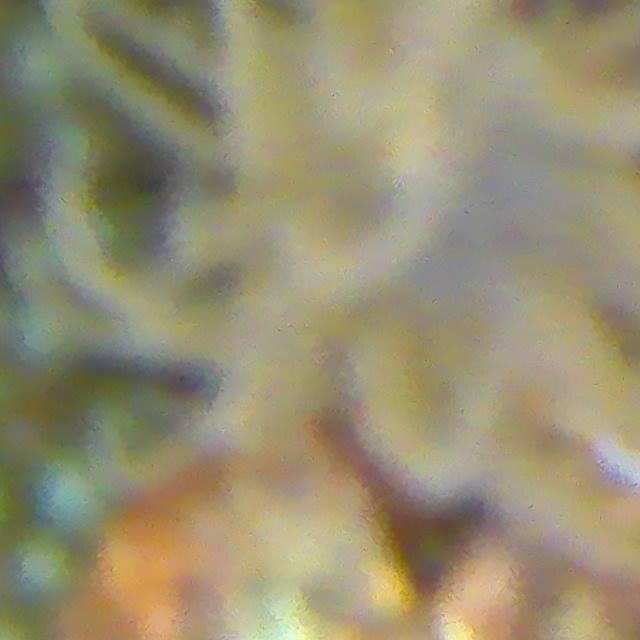SeaGrape: (33, 453, 124, 542), (0, 19, 82, 108), (9, 530, 85, 607), (13, 294, 84, 367)
